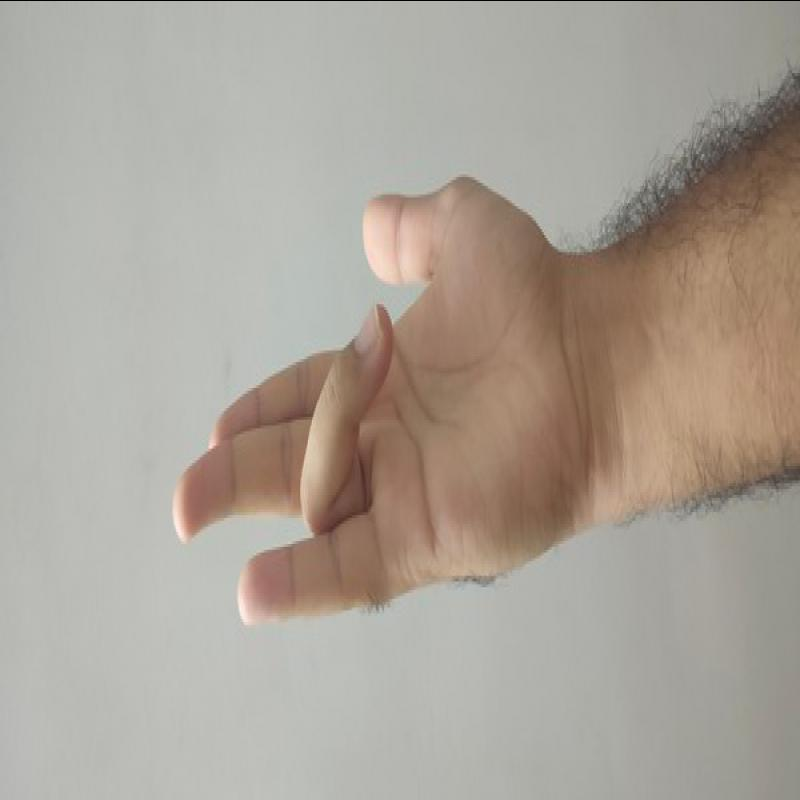Pathaaka: (158, 168, 591, 640)
